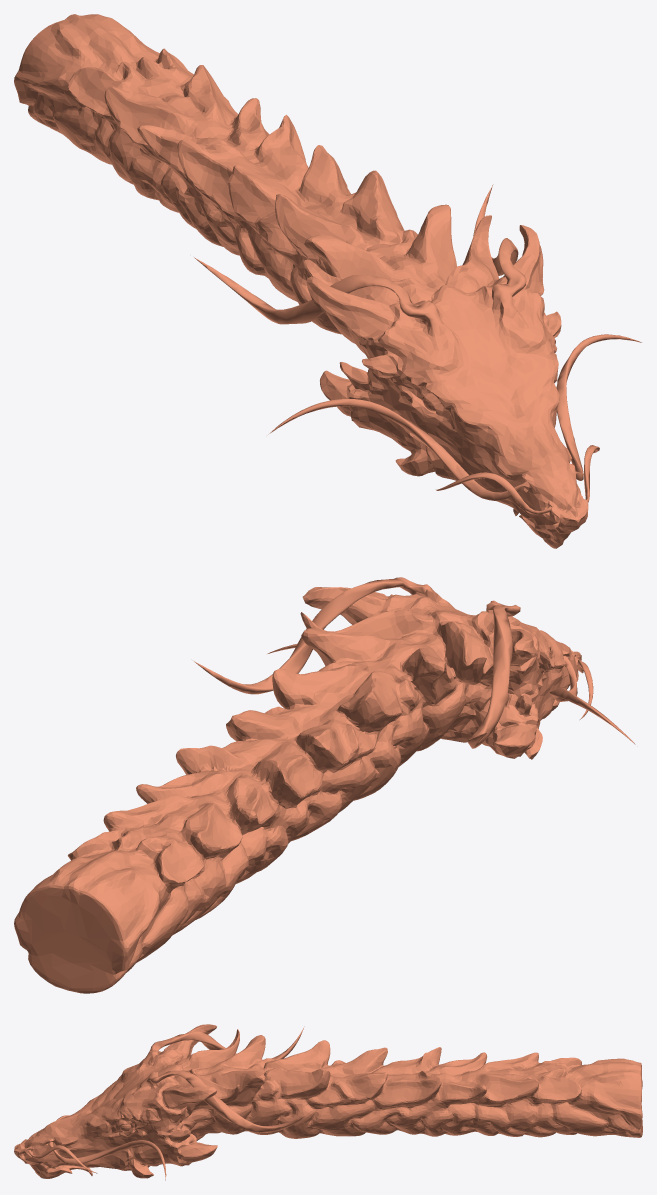
Rendered from dragonHead.glb.
The picture shows the model from 3 angles, top to bottom: view 1: azimuth 30°, elevation 25°; view 2: azimuth 150°, elevation 25°; view 3: azimuth 270°, elevation 25°; orthographic projection. The views are drawn at different scales.
Visible parts, largest first — view 1: dragonHead.001; view 2: dragonHead.001; view 3: dragonHead.001.
Part boxes in pixels (box(x1,y1,x2,y2)): dragonHead.001: box(14, 14, 641, 548); dragonHead.001: box(14, 577, 635, 993); dragonHead.001: box(14, 1024, 642, 1180).
Size of the model in its own units: 4.65 by 2.37 by 10.73.
